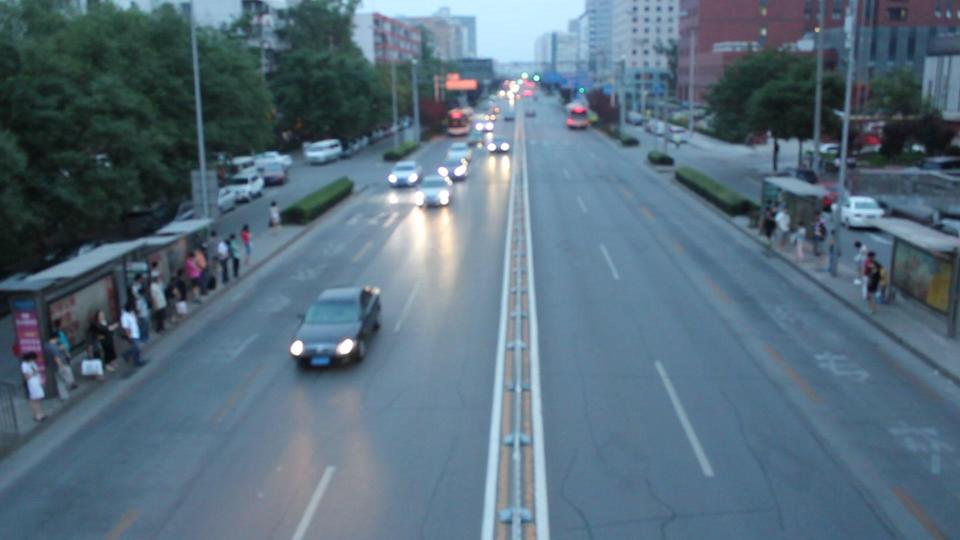car: (288, 285, 383, 371), (840, 196, 885, 230), (222, 167, 267, 196), (217, 184, 264, 211), (416, 175, 452, 207), (303, 138, 344, 166), (387, 161, 423, 188), (255, 158, 289, 186), (437, 157, 471, 183), (441, 142, 472, 164), (918, 156, 960, 171), (646, 150, 675, 170), (486, 135, 511, 153)
person: (20, 351, 51, 422), (860, 253, 885, 304), (269, 200, 283, 229)
